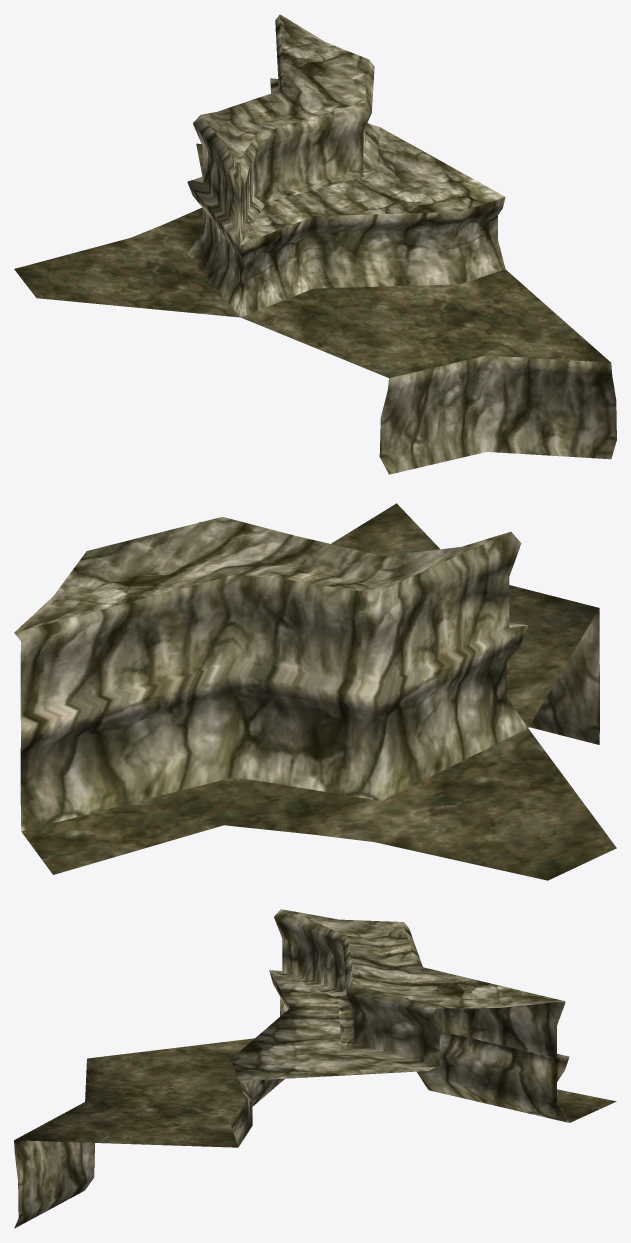
File: CB_NEWPLAYSURFACE_CB_PLAYSURFACE26.fbx
The picture shows the model from 3 angles, top to bottom: view 1: azimuth 30°, elevation 25°; view 2: azimuth 150°, elevation 25°; view 3: azimuth 270°, elevation 25°; orthographic projection. The views are drawn at different scales.
Visible parts, largest first — view 1: CB_NEWPLAYSURFACE_CB_PLAYSURFACE26; view 2: CB_NEWPLAYSURFACE_CB_PLAYSURFACE26; view 3: CB_NEWPLAYSURFACE_CB_PLAYSURFACE26.
Part boxes in pixels (box(x1,y1,x2,y2)): CB_NEWPLAYSURFACE_CB_PLAYSURFACE26: box(14, 14, 616, 474); CB_NEWPLAYSURFACE_CB_PLAYSURFACE26: box(14, 503, 616, 880); CB_NEWPLAYSURFACE_CB_PLAYSURFACE26: box(14, 909, 616, 1228).
Bounding box in the file's own units: 165470 × 98700 × 246743.
3 materials, 3 textured.
